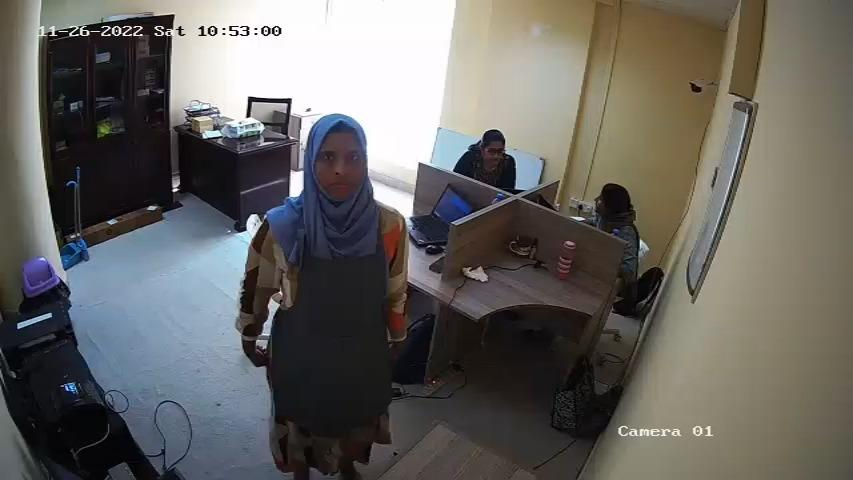apron: (275, 226, 398, 440)
